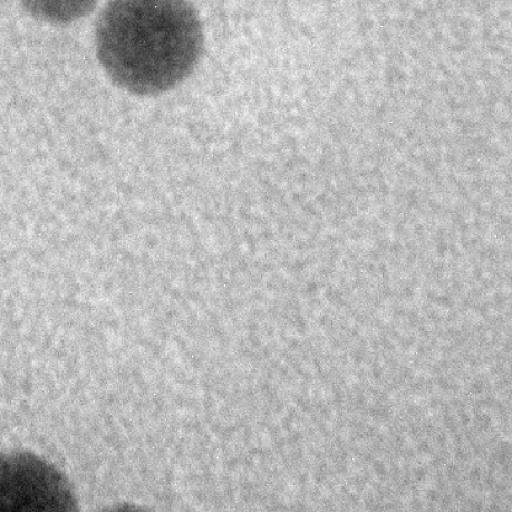Nanoparticles: (91, 1, 209, 98), (0, 445, 80, 512), (18, 0, 98, 30), (103, 497, 155, 512)
